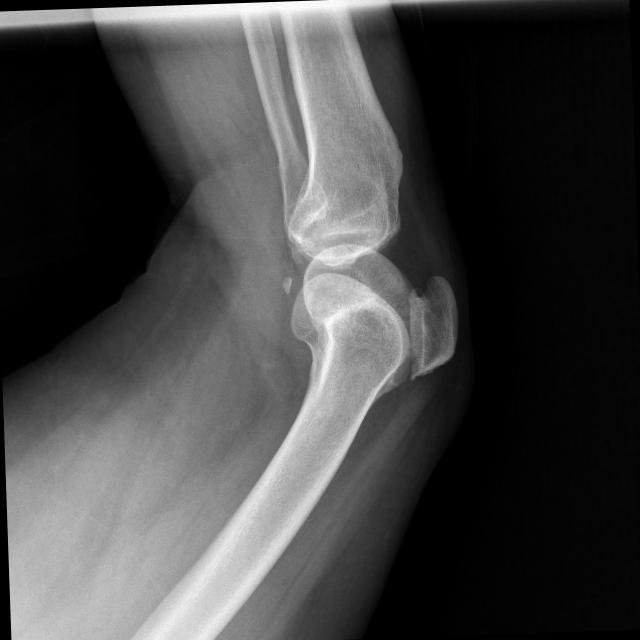Knee: (284, 182, 460, 390)
